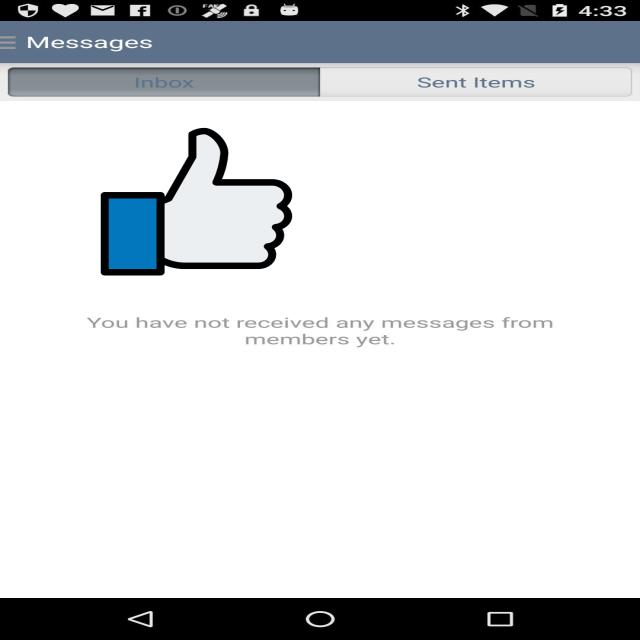privacy zuckering: (101, 124, 292, 278)
